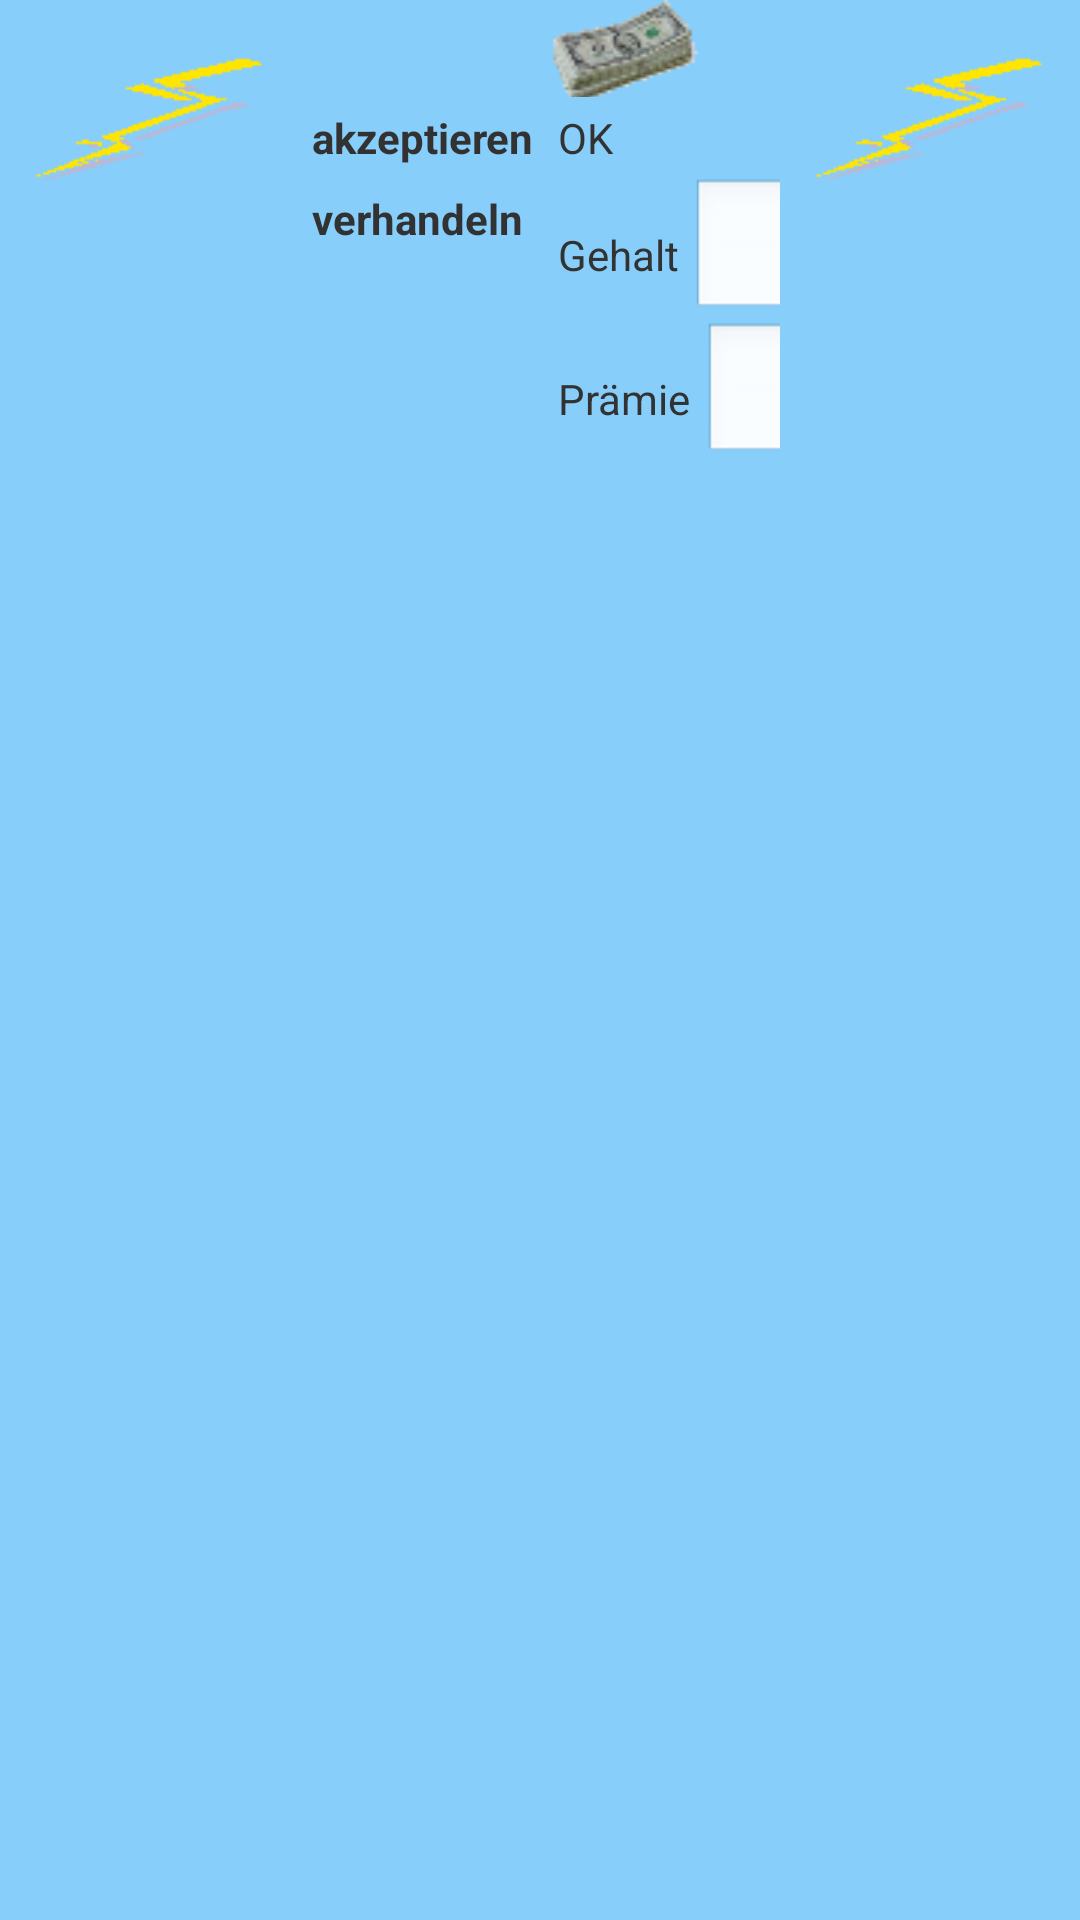

Screen size 1080px×1920px. Icon name, then its box in pixels as BBox(x1, y1, x2, y2):
lightening: BBox(36, 58, 262, 181), BBox(816, 58, 1042, 181)
money: BBox(553, 0, 698, 97)
